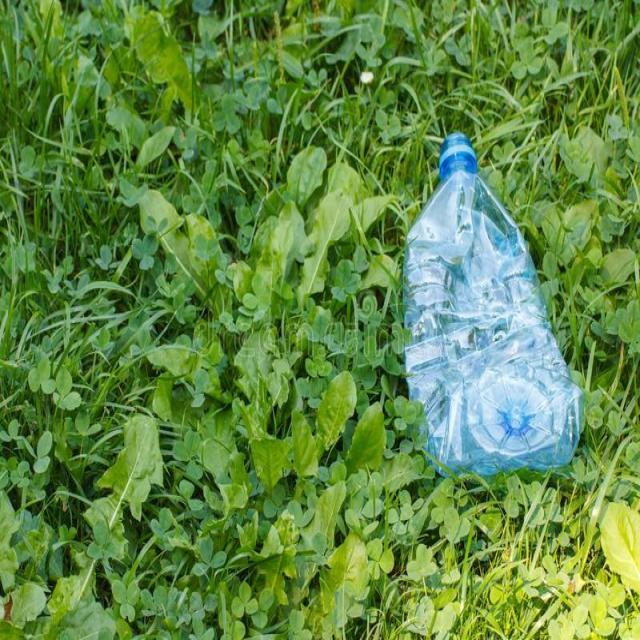bottle: (399, 125, 591, 495)
